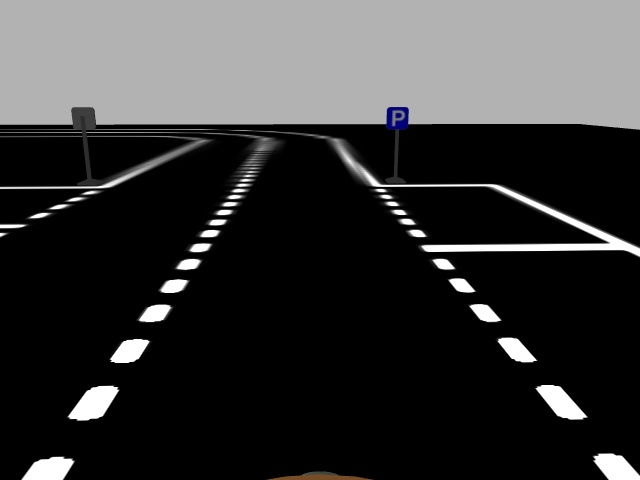parking: (385, 105, 408, 129)
